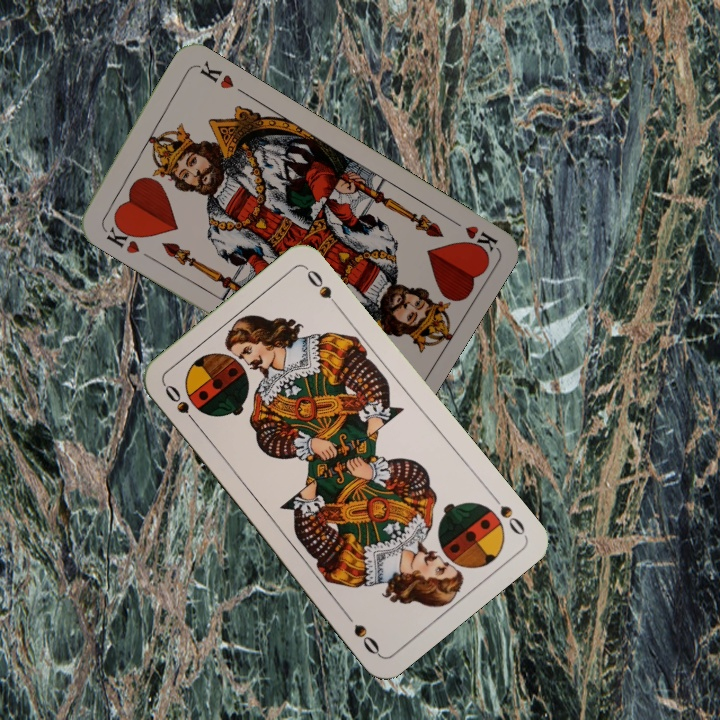HK: (443, 213, 500, 258), (97, 217, 145, 257)
SO: (160, 380, 203, 431), (487, 489, 528, 538)
